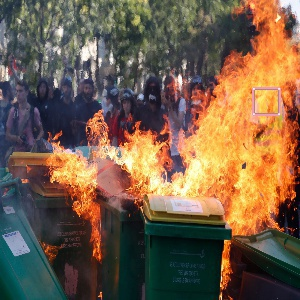square: (250, 85, 281, 116)
